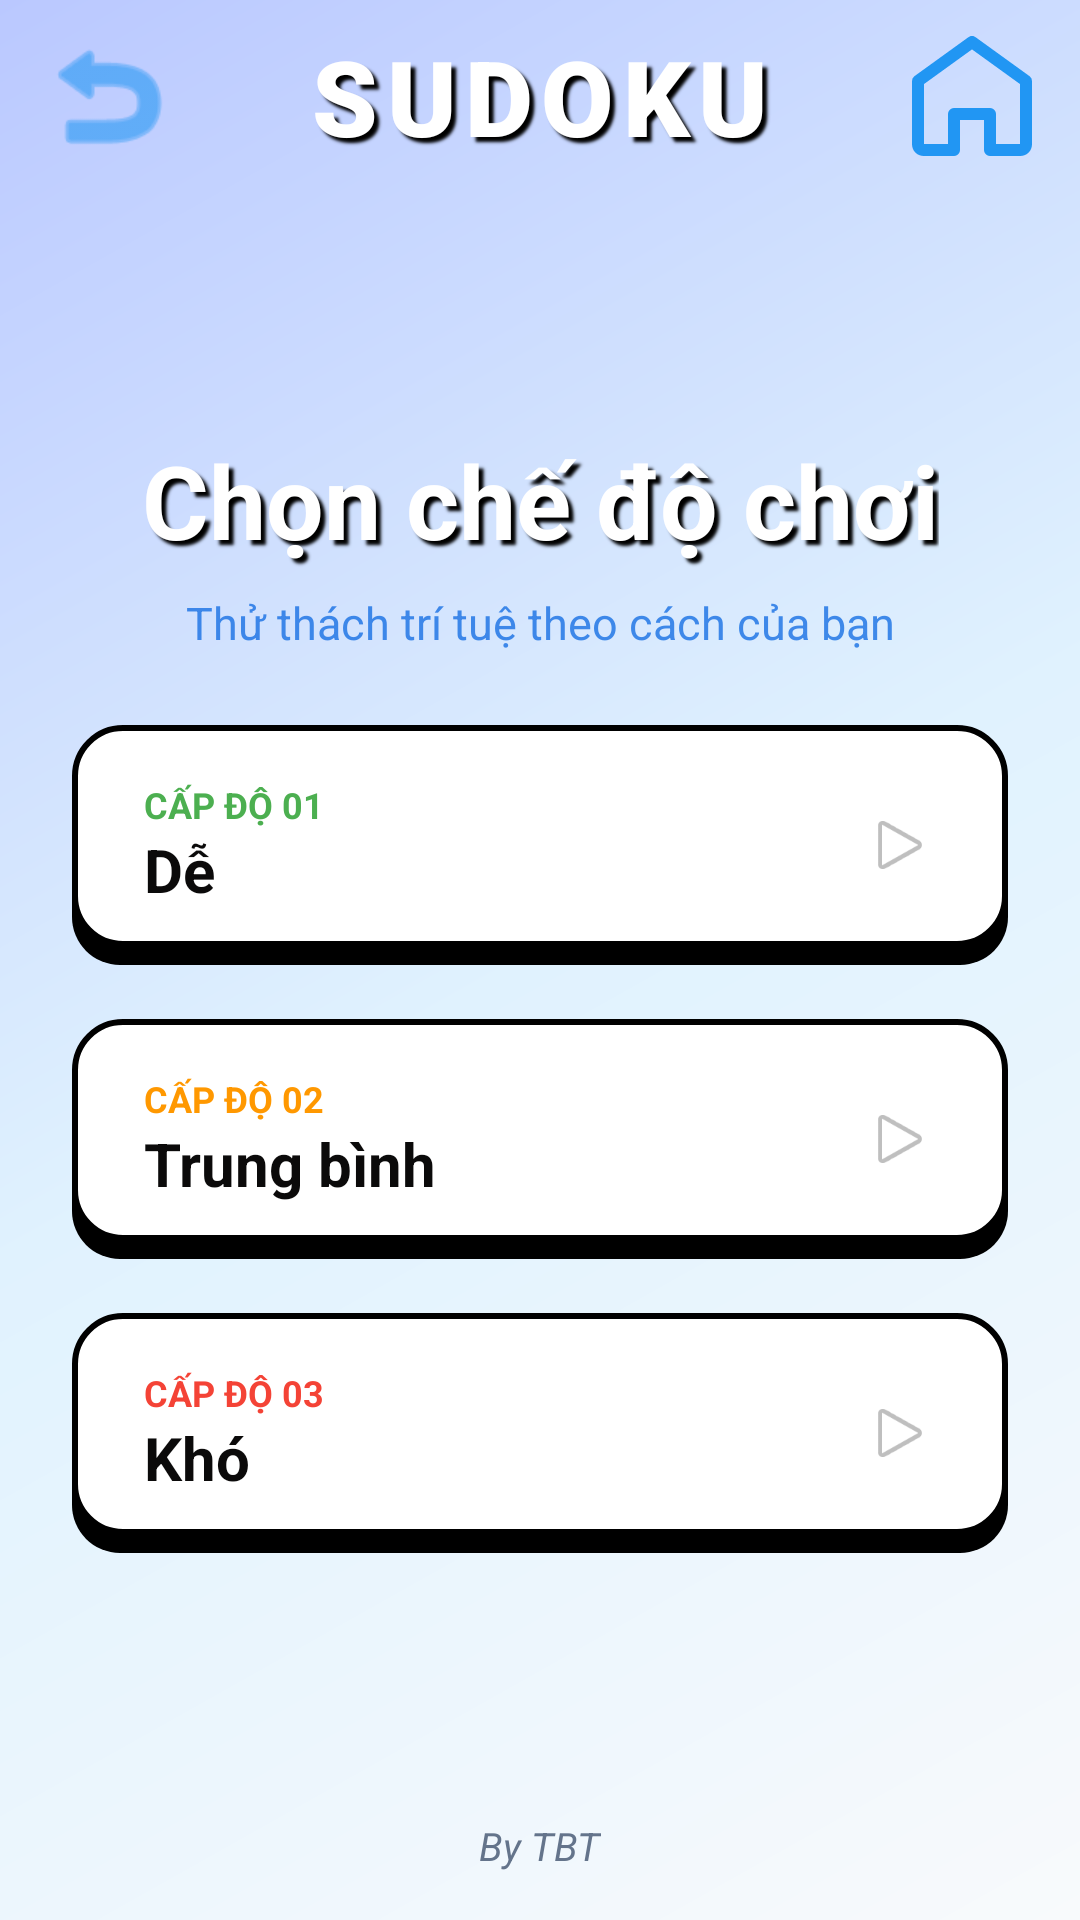

Locate icon controls on the screen. Image size 1080×1920, boxes as (x1, y1, x2, y2).
Back: (58, 50, 162, 144)
Home: (912, 36, 1032, 156)
play: (878, 821, 922, 869), (878, 1115, 922, 1163), (878, 1409, 922, 1457)
